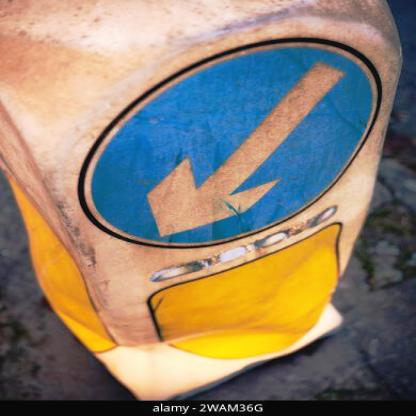Keep left: (84, 26, 390, 249)
